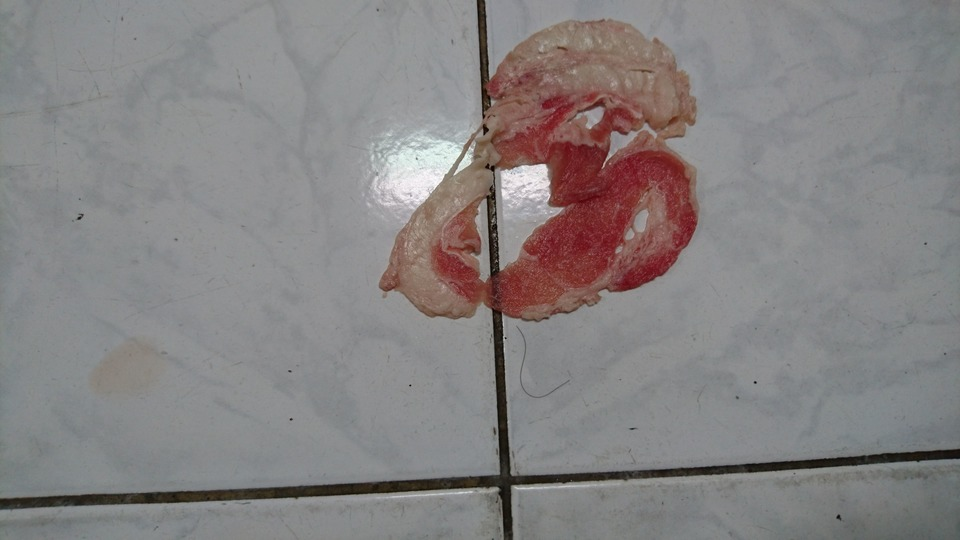restructured meat: (391, 16, 700, 319)
